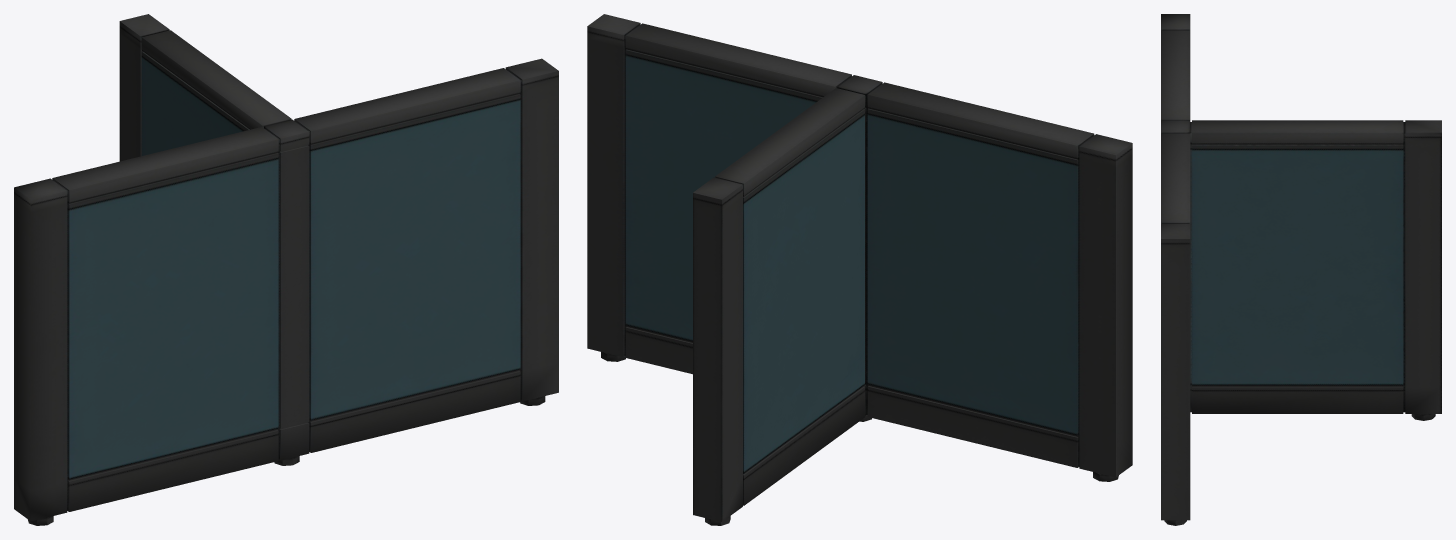
Rendered from ENV_LowPartition_TJunction_v001.fbx.
The picture shows the model from 3 angles, left to right: view 1: azimuth 30°, elevation 25°; view 2: azimuth 150°, elevation 25°; view 3: azimuth 270°, elevation 25°; orthographic projection. The views are drawn at different scales.
Parts seen in each view (by area): view 1: 큐브_001; view 2: 큐브_001; view 3: 큐브_001.
Boxes of the visible parts, x1,y1,x2,y2 form: 큐브_001: (14, 14, 558, 525); 큐브_001: (587, 14, 1132, 525); 큐브_001: (1161, 14, 1441, 525).
Bounding box in the file's own units: 200 × 120 × 105.
Materials: 1 (1 with a texture image).
